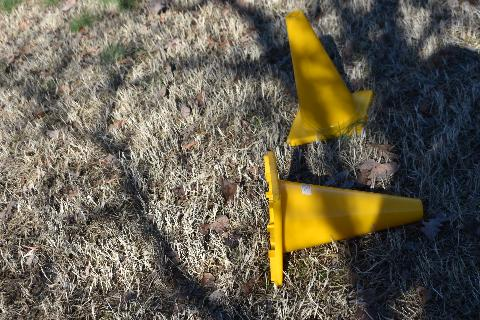cone: (265, 152, 423, 286), (285, 11, 373, 145)
